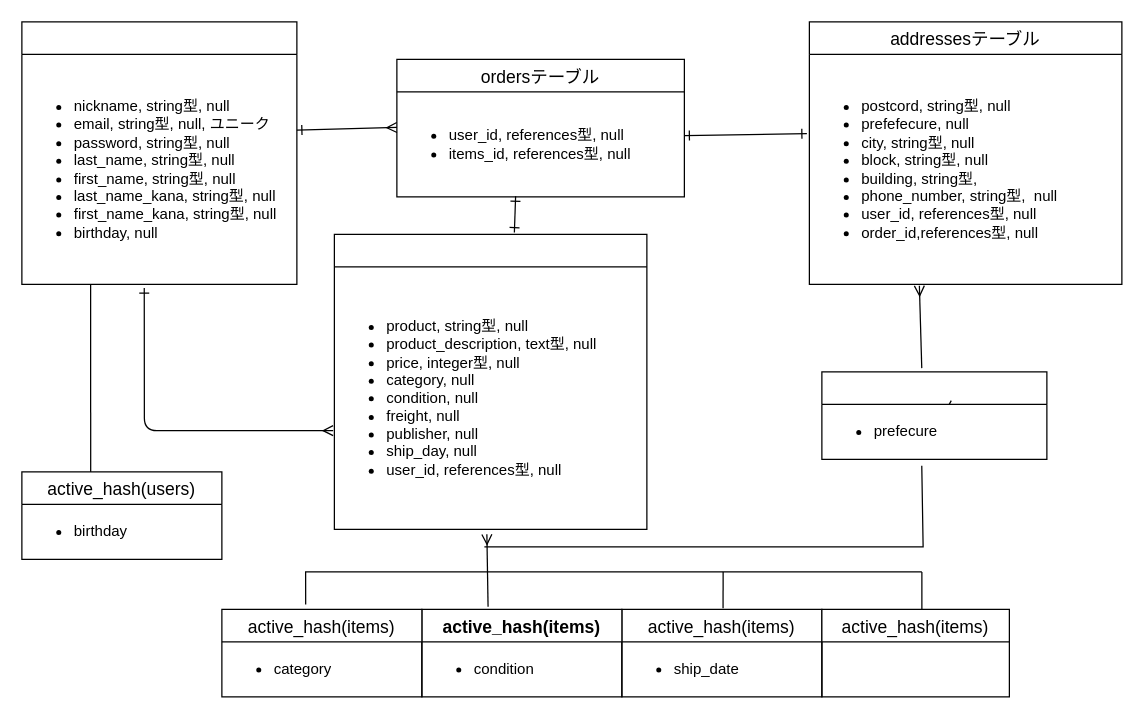
The diagram is 1144 pixels wide and 719 high, and some of its shapes have lost their labels. The box of each missing label's shape, as (x1, y1, x2, y2) in pixels:
active_hash(items,address): (821, 371, 1047, 459)
itemsテーブル: (333, 233, 647, 529)
usersテーブル: (21, 21, 297, 284)
